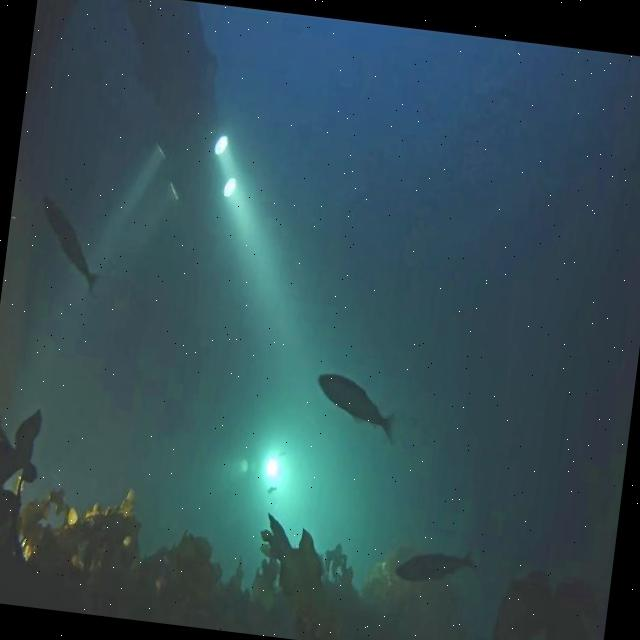fish: (32, 192, 110, 294), (310, 370, 404, 446), (391, 544, 475, 588), (266, 484, 277, 494)
